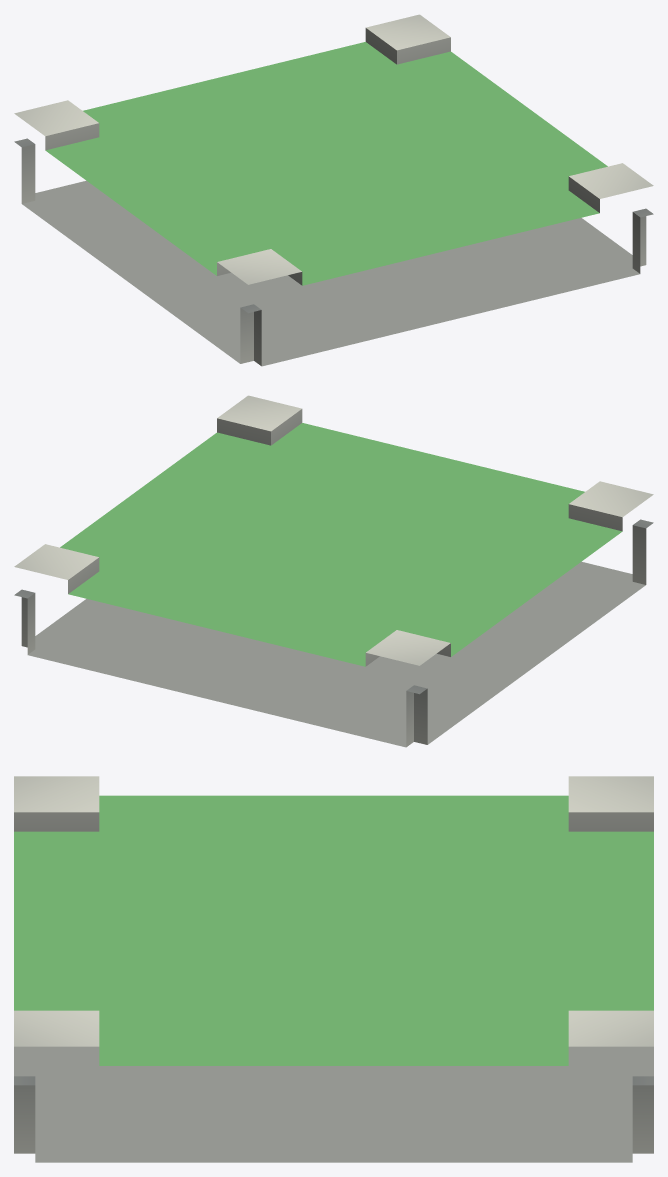
The model's file is Planter_4way_Large_01.fbx.
The picture shows the model from 3 angles, top to bottom: view 1: azimuth 30°, elevation 25°; view 2: azimuth 150°, elevation 25°; view 3: azimuth 270°, elevation 25°; orthographic projection. The views are drawn at different scales.
Visible parts, largest first — view 1: Planter_4way_Large_01; view 2: Planter_4way_Large_01; view 3: Planter_4way_Large_01.
Boxes of the visible parts, x1,y1,x2,y2 form: Planter_4way_Large_01: (14,14,653,366); Planter_4way_Large_01: (14,395,653,747); Planter_4way_Large_01: (14,776,653,1162).
Size of the model in its own units: 300 by 60 by 300.
